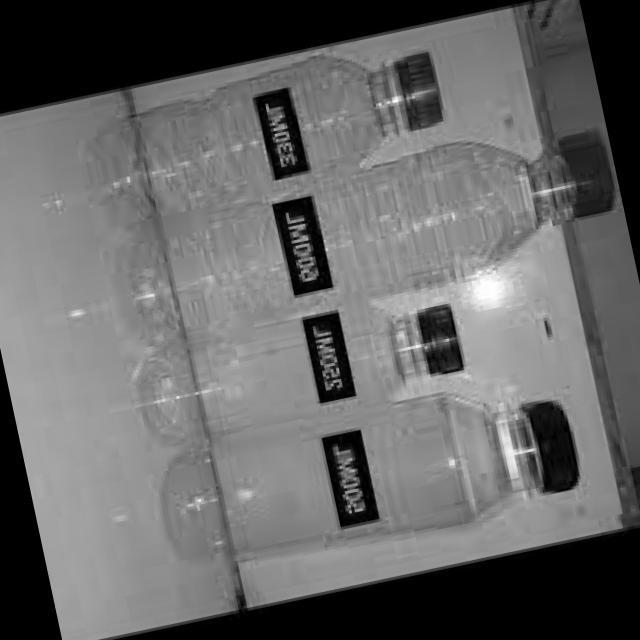good: (55, 22, 465, 238)
